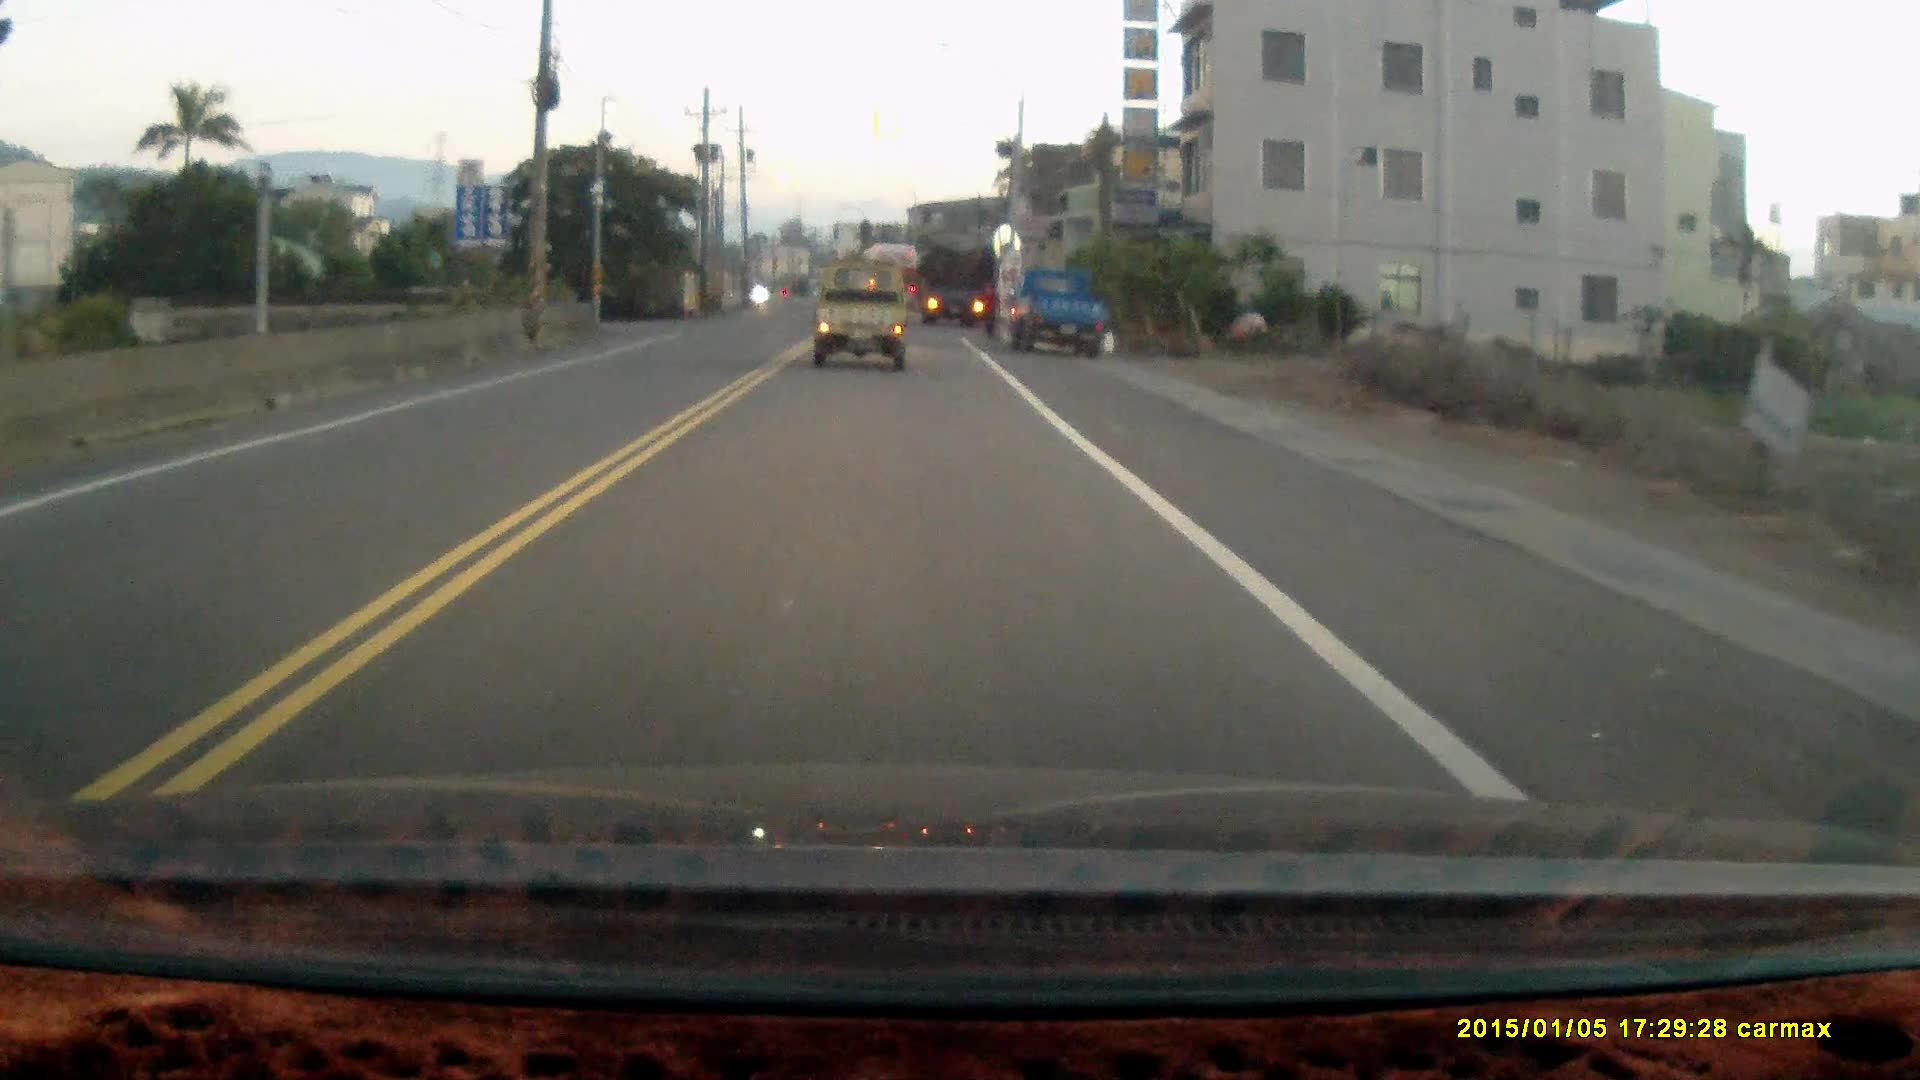vehicle: (810, 260, 913, 375), (1004, 266, 1120, 364), (920, 251, 996, 328)
